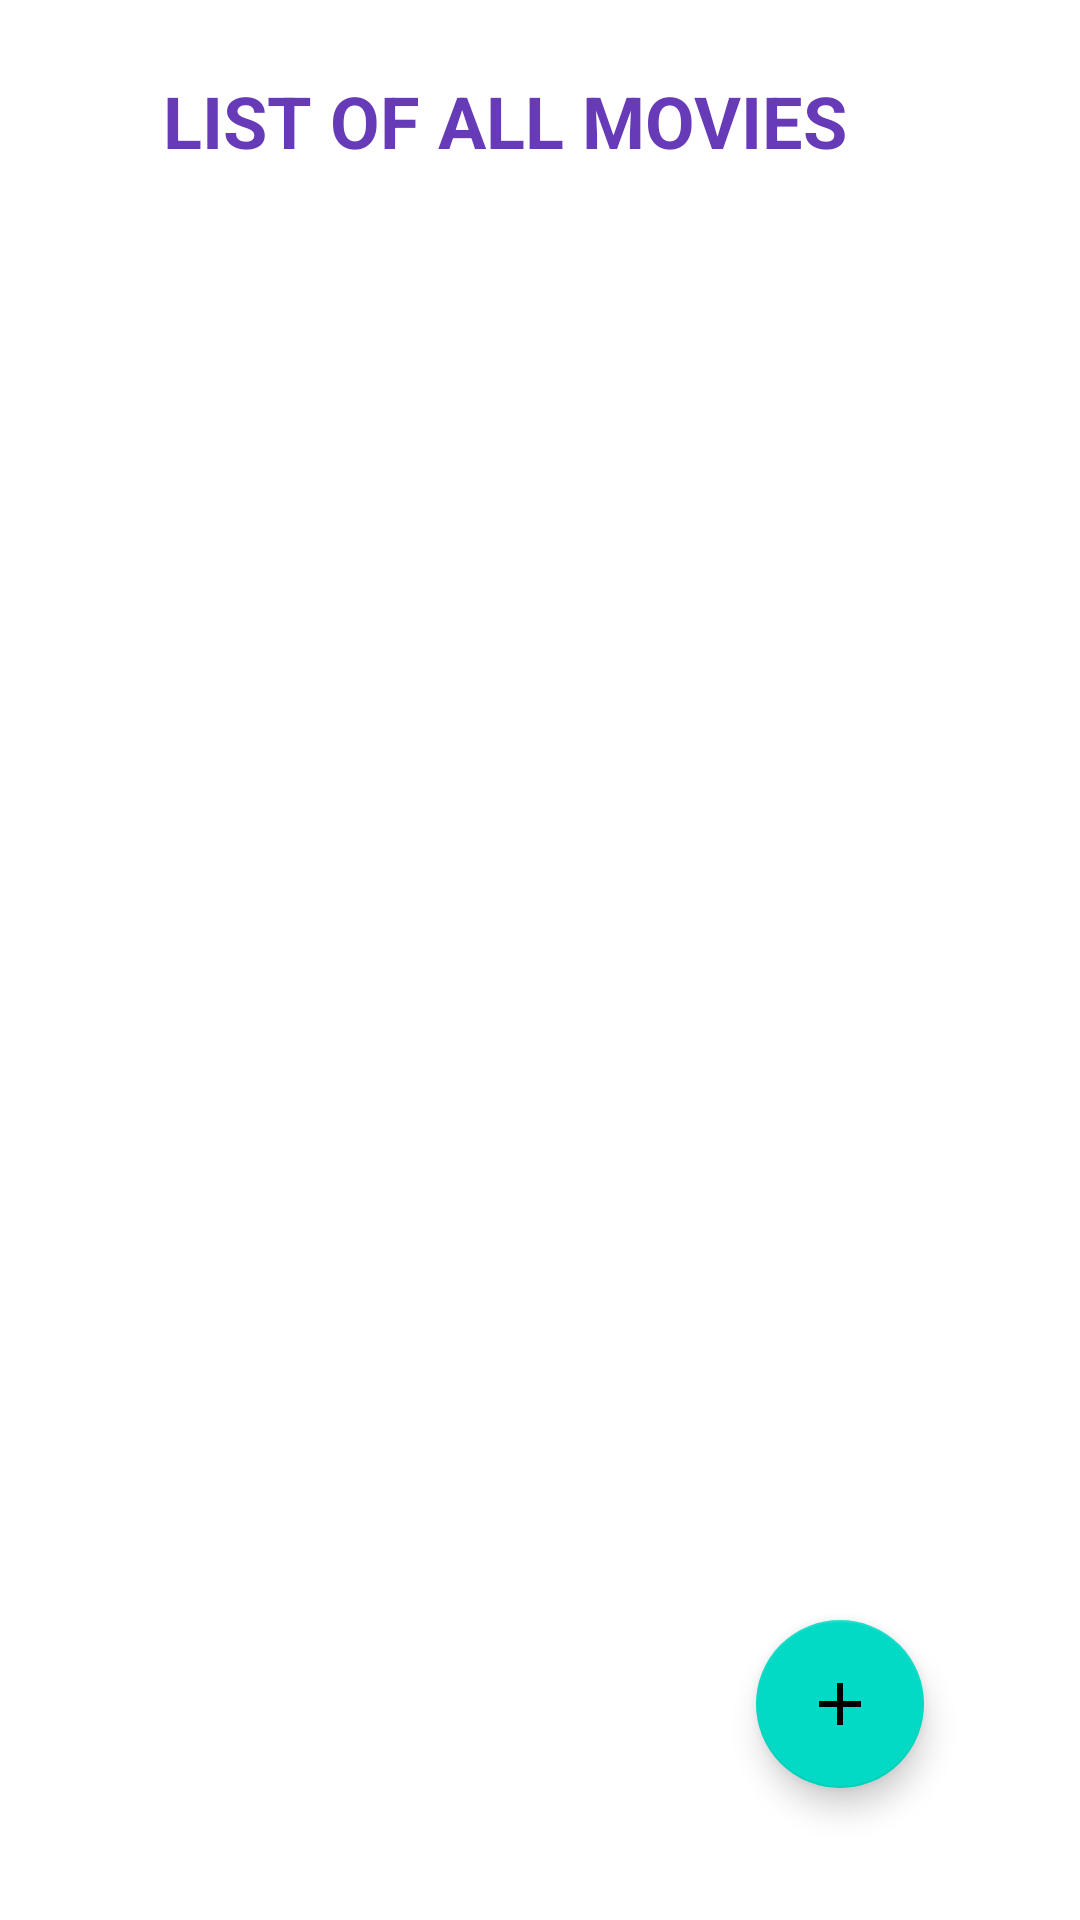

Icon bounding boxes for this 1080px x 1920px phone screenshot, format (x1, y1, x2, y2):
add: (756, 1620, 924, 1788)
